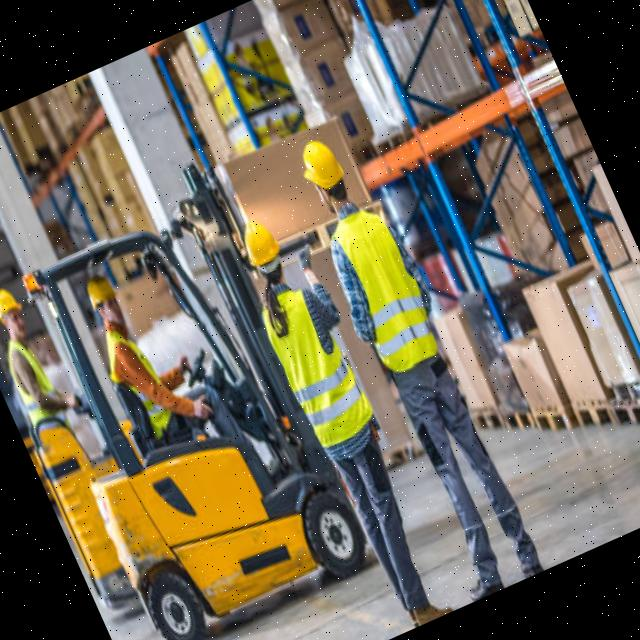Person: (276, 123, 551, 602), (222, 203, 468, 634), (0, 280, 85, 437)
